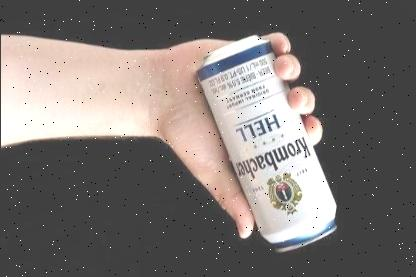Can: (193, 33, 337, 254)
